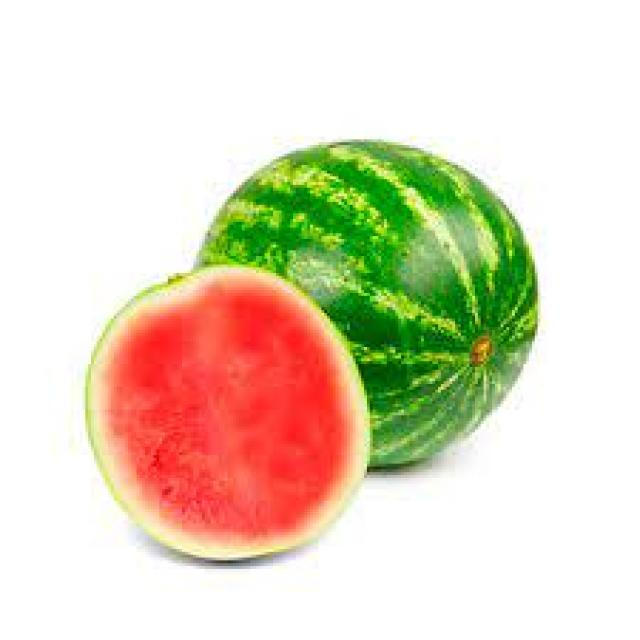watermelon: (190, 137, 538, 470), (82, 262, 370, 560)
